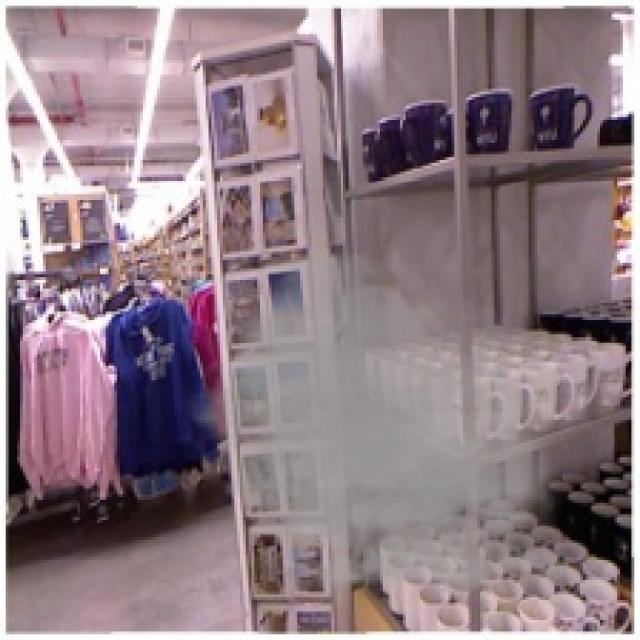Smoke: (175, 237, 594, 614)
